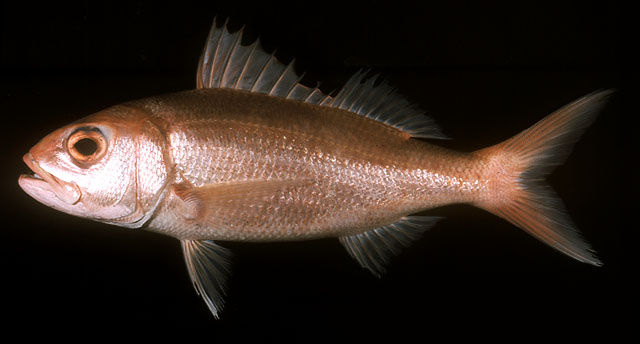fish: (18, 18, 617, 321)
